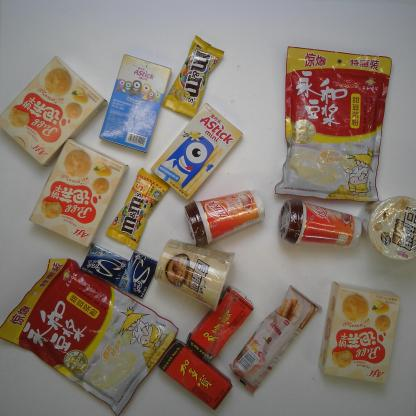Chocolate: (105, 166, 171, 252), (163, 35, 226, 120)
Dessert: (0, 54, 111, 167), (25, 139, 131, 247), (229, 285, 321, 398), (148, 101, 244, 201), (318, 280, 403, 385), (99, 51, 172, 156)
Drink: (154, 338, 234, 411), (185, 284, 255, 365)
Gum: (116, 249, 159, 300), (80, 244, 132, 286)
Instant Drink: (0, 256, 180, 416), (274, 46, 393, 202), (183, 187, 266, 249), (276, 197, 364, 249)
Instant Noodles: (152, 238, 236, 313), (357, 195, 416, 262)
